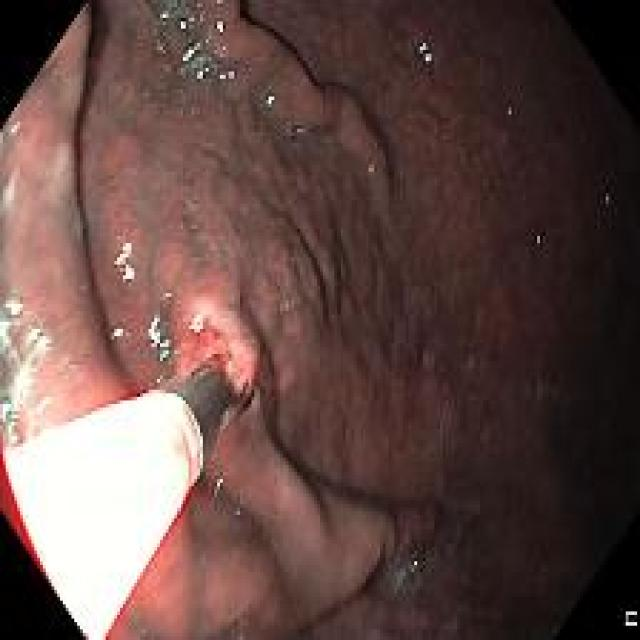blur: (1, 64, 82, 462)
bubbles: (286, 121, 303, 146)
color misalignment: (624, 611, 637, 626)
contrast: (577, 23, 638, 630)
instrument: (1, 356, 256, 638)
saturation: (4, 387, 203, 640)
specularity: (10, 362, 33, 412), (25, 325, 52, 361), (114, 241, 135, 282), (181, 39, 200, 63), (2, 299, 25, 318), (148, 313, 160, 349), (0, 319, 13, 349), (417, 39, 431, 64), (157, 338, 171, 362), (35, 395, 50, 416), (187, 316, 203, 333), (7, 420, 17, 444), (109, 325, 124, 341), (195, 66, 209, 81), (217, 70, 235, 81), (9, 121, 22, 136), (213, 477, 223, 496), (265, 93, 276, 110), (176, 18, 188, 32), (2, 401, 10, 421), (157, 9, 169, 21), (216, 19, 225, 34), (410, 559, 417, 574), (536, 234, 544, 247), (189, 14, 195, 21), (298, 126, 302, 134)
